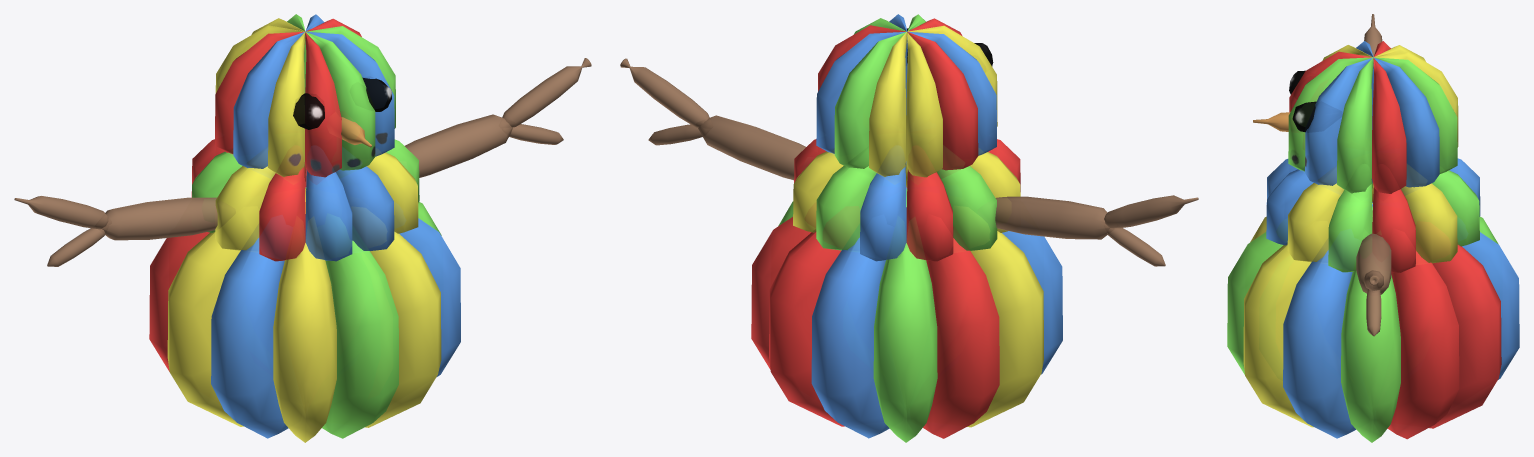
Rendered from SnowmanBase.fbx.
3 renders of one model, left to right at view 1: azimuth 30°, elevation 25°; view 2: azimuth 150°, elevation 25°; view 3: azimuth 270°, elevation 25°, orthographic. The views are drawn at different scales.
Parts seen in each view (by area): view 1: BalloonBodyBottom, BalloonHead, BalloonBodyMiddle, BalloonRightArm, BalloonLeftArm; view 2: BalloonBodyBottom, BalloonHead, BalloonBodyMiddle, BalloonRightArm, BalloonLeftArm; view 3: BalloonBodyBottom, BalloonHead, BalloonBodyMiddle, BalloonLeftArm, BalloonRightArm.
Boxes of the visible parts, bbox=[...] form: BalloonBodyBottom: bbox=[149, 162, 460, 442]; BalloonHead: bbox=[215, 14, 395, 177]; BalloonBodyMiddle: bbox=[191, 139, 419, 261]; BalloonRightArm: bbox=[14, 196, 217, 266]; BalloonLeftArm: bbox=[405, 58, 591, 177]; BalloonBodyBottom: bbox=[751, 163, 1062, 442]; BalloonHead: bbox=[816, 14, 997, 177]; BalloonBodyMiddle: bbox=[793, 139, 1020, 261]; BalloonRightArm: bbox=[995, 195, 1198, 266]; BalloonLeftArm: bbox=[620, 58, 805, 180]; BalloonBodyBottom: bbox=[1227, 183, 1519, 442]; BalloonHead: bbox=[1253, 41, 1458, 193]; BalloonBodyMiddle: bbox=[1266, 158, 1480, 272]; BalloonLeftArm: bbox=[1356, 233, 1391, 336]; BalloonRightArm: bbox=[1364, 14, 1382, 56].
Bounding box in the file's own units: 3.07 × 1.98 × 1.44.
